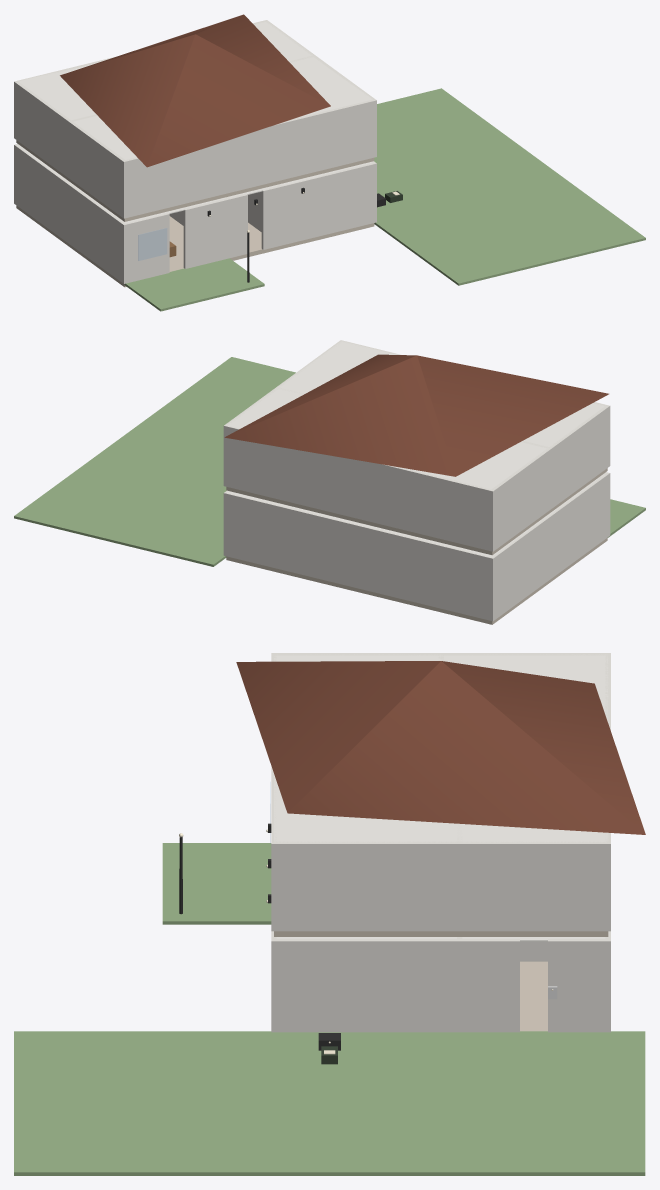
The model's file is house.glb.
3 renders of one model, top to bottom at view 1: azimuth 30°, elevation 25°; view 2: azimuth 150°, elevation 25°; view 3: azimuth 270°, elevation 25°, orthographic. The views are drawn at different scales.
Visible parts, largest first — view 1: slab:garden, roof, level1, level0, ceiling_first, slab:terrace, ceiling_ground, slab:living_room, window_pane_living, slab:kids_room, slab:hall; view 2: roof, level0, slab:garden, level1, ceiling_first, ceiling_ground, slab:terrace, slab:master_bedroom, slab:bedroom, slab:bathroom_2, slab:utility; view 3: slab:garden, roof, level1, level0, ceiling_first, slab:terrace, slab:utility, slab:office, slab:bathroom_2, ceiling_ground.
Part boxes in pixels (x1,y1,x2,y2): slab:garden: [374, 88, 645, 285]; roof: [60, 14, 330, 167]; level1: [14, 20, 376, 218]; level0: [14, 144, 376, 283]; ceiling_first: [17, 21, 372, 159]; slab:terrace: [124, 258, 264, 311]; ceiling_ground: [17, 144, 372, 223]; slab:living_room: [64, 216, 183, 287]; window_pane_living: [138, 228, 166, 260]; slab:kids_room: [70, 180, 228, 221]; slab:hall: [230, 222, 280, 260]; roof: [224, 354, 608, 476]; level0: [223, 472, 610, 621]; slab:garden: [14, 357, 295, 566]; level1: [223, 340, 610, 551]; ceiling_first: [226, 341, 606, 489]; ceiling_ground: [226, 473, 605, 556]; slab:terrace: [607, 499, 645, 537]; slab:master_bedroom: [381, 510, 549, 555]; slab:bedroom: [381, 584, 543, 624]; slab:bathroom_2: [226, 487, 325, 514]; slab:utility: [226, 556, 325, 584]; slab:garden: [14, 1031, 645, 1175]; roof: [236, 661, 645, 834]; level1: [271, 653, 610, 931]; level0: [271, 931, 610, 1032]; ceiling_first: [274, 654, 608, 842]; slab:terrace: [162, 843, 271, 924]; slab:utility: [520, 961, 547, 1031]; slab:office: [274, 931, 459, 936]; slab:bathroom_2: [459, 931, 608, 936]; ceiling_ground: [276, 937, 605, 941].
Size of the model in its own units: 21.08 by 8.4 by 17.02.
